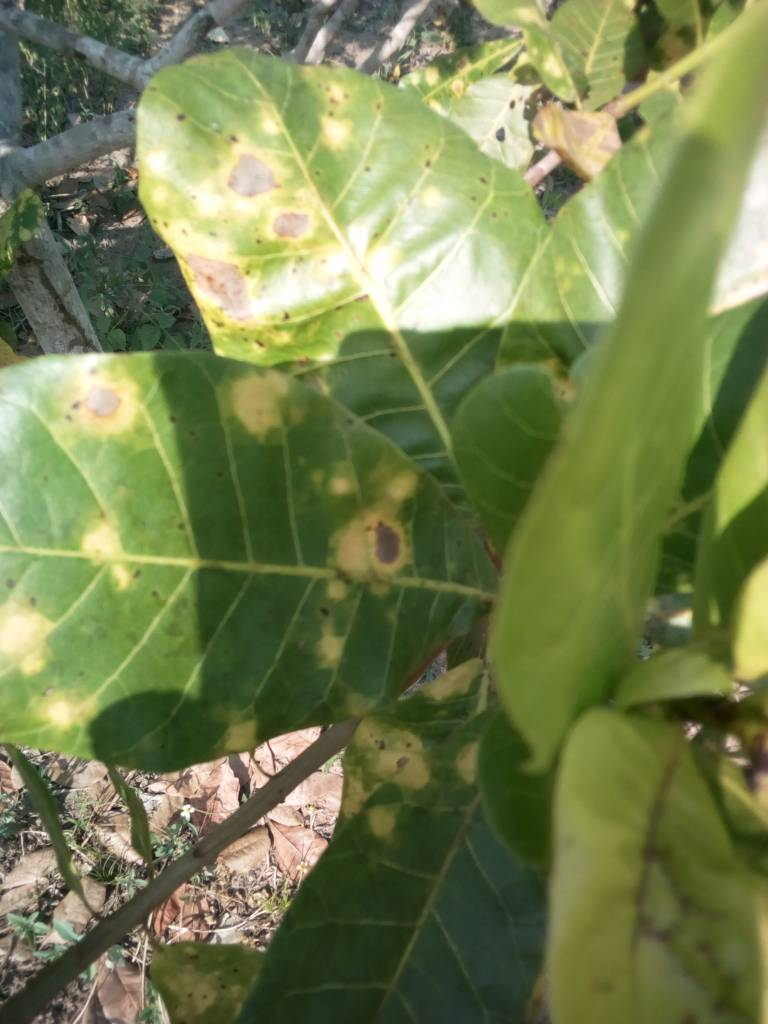Alternariose: (1, 347, 475, 775), (133, 41, 522, 358), (527, 128, 650, 353)
